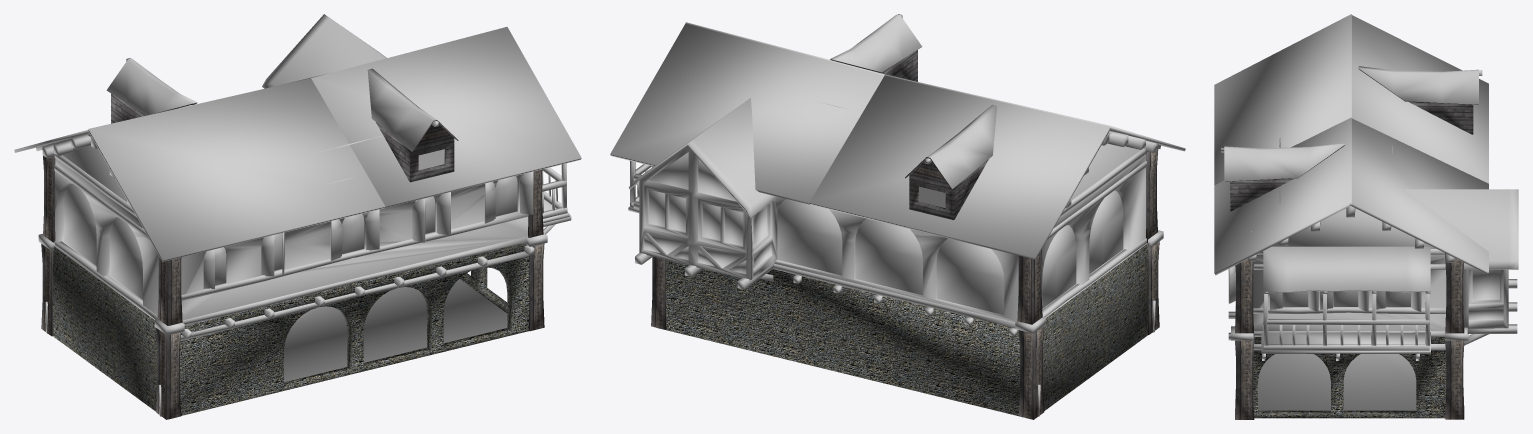
Rendered from tavern3.obj.
3 views of the same model, side by side, from view 1: azimuth 30°, elevation 25°; view 2: azimuth 150°, elevation 25°; view 3: azimuth 270°, elevation 25° (orthographic). The views are drawn at different scales.
Parts seen in each view (by area): view 1: house; view 2: house; view 3: house.
Boxes of the visible parts, x1,y1,x2,y2 form: house: (14,14,581,419); house: (610,14,1185,419); house: (1214,14,1518,419).
Size of the model in its own units: 26.7 by 14.65 by 17.58.
